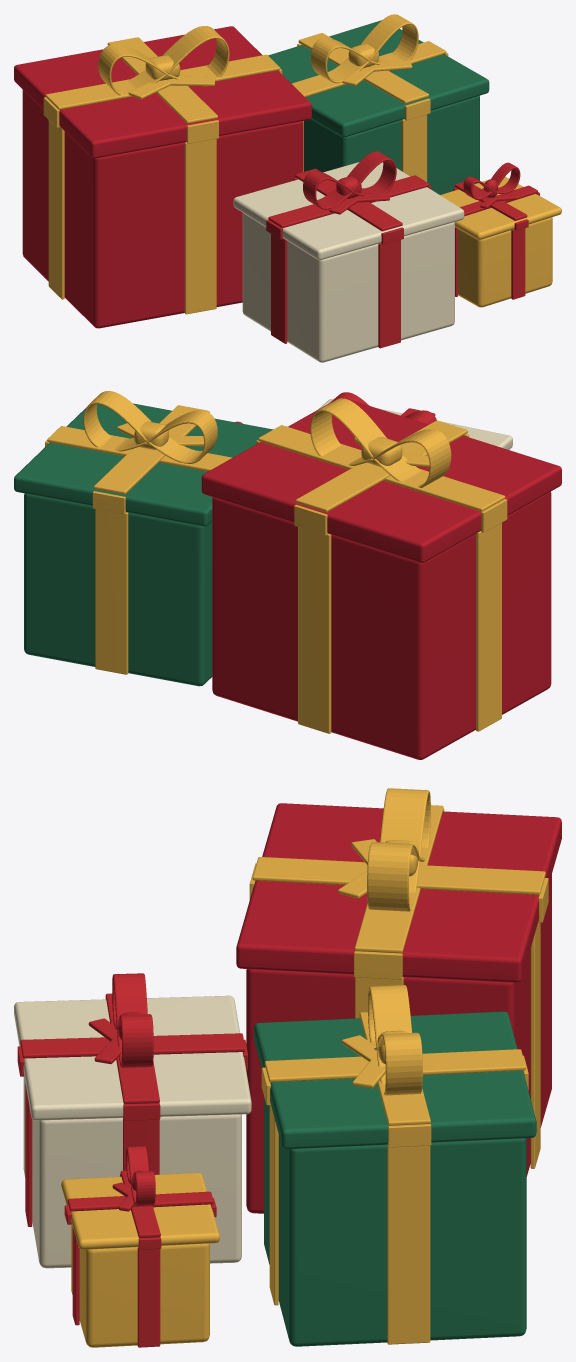
File: christmas-gift-boxes.glb
The picture shows the model from 3 angles, top to bottom: view 1: azimuth 30°, elevation 25°; view 2: azimuth 150°, elevation 25°; view 3: azimuth 270°, elevation 25°; orthographic projection. The views are drawn at different scales.
Visible parts, largest first — view 1: Export batch Cranberry red paper, Export batch Gold satin ribbon, Export batch Warm ivory paper, Export batch Evergreen paper, Export batch Red satin ribbon; view 2: Export batch Cranberry red paper, Export batch Gold satin ribbon, Export batch Evergreen paper, Export batch Warm ivory paper, Export batch Red satin ribbon; view 3: Export batch Evergreen paper, Export batch Gold satin ribbon, Export batch Cranberry red paper, Export batch Warm ivory paper, Export batch Red satin ribbon.
Boxes of the visible parts, left/top/right/bottom form: Export batch Cranberry red paper: left=14, top=26, right=311, bottom=328; Export batch Gold satin ribbon: left=43, top=14, right=561, bottom=314; Export batch Warm ivory paper: left=233, top=162, right=464, bottom=362; Export batch Evergreen paper: left=268, top=20, right=489, bottom=194; Export batch Red satin ribbon: left=266, top=151, right=539, bottom=348; Export batch Cranberry red paper: left=201, top=397, right=561, bottom=759; Export batch Gold satin ribbon: left=45, top=391, right=507, bottom=733; Export batch Evergreen paper: left=14, top=403, right=273, bottom=686; Export batch Warm ivory paper: left=318, top=399, right=512, bottom=449; Export batch Red satin ribbon: left=234, top=392, right=436, bottom=424; Export batch Evergreen paper: left=254, top=1011, right=536, bottom=1346; Export batch Gold satin ribbon: left=61, top=788, right=548, bottom=1347; Export batch Cranberry red paper: left=236, top=803, right=561, bottom=1213; Export batch Warm ivory paper: left=14, top=995, right=251, bottom=1268; Export batch Red satin ribbon: left=17, top=973, right=247, bottom=1347.
Bounding box in the file's own units: 1.69 × 0.9479 × 1.4.
